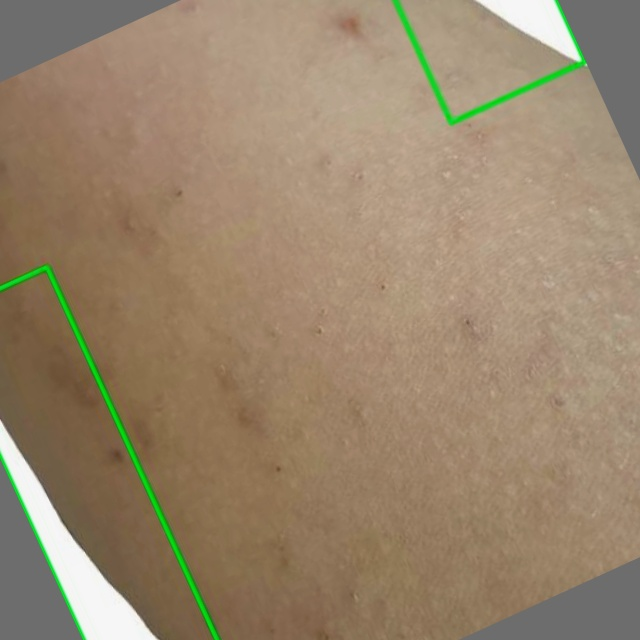Scabies: (0, 267, 216, 639)
